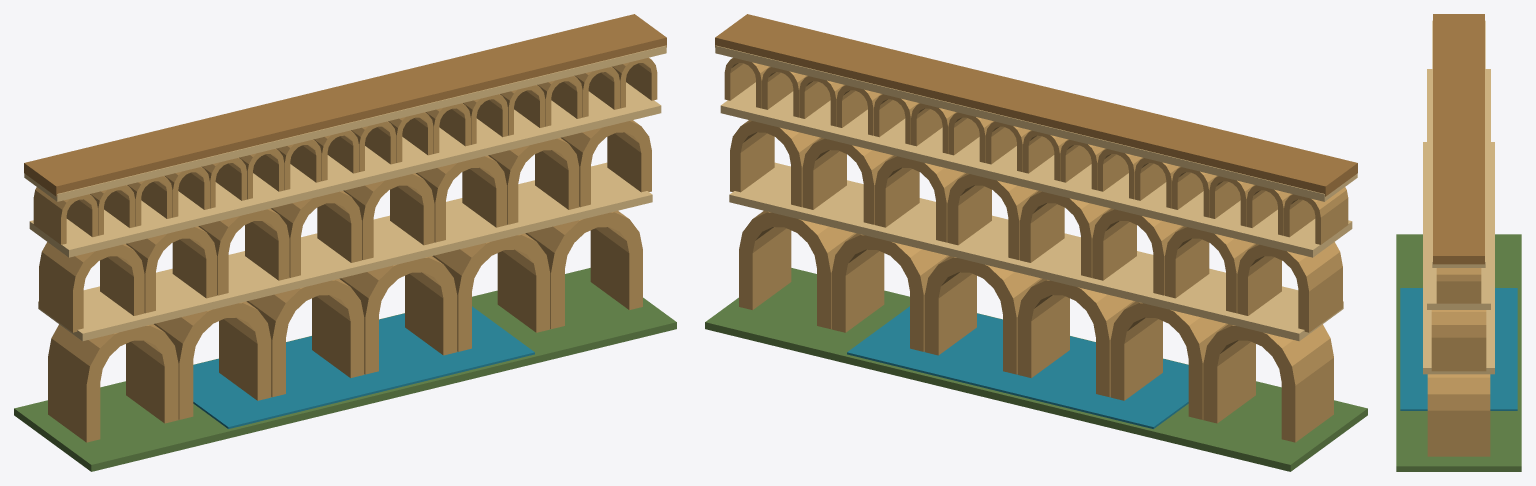
Rendered from pont-du-gard.glb.
The picture shows the model from 3 angles, left to right: view 1: azimuth 30°, elevation 25°; view 2: azimuth 150°, elevation 25°; view 3: azimuth 270°, elevation 25°; orthographic projection. The views are drawn at different scales.
Visible parts, largest first — view 1: body_CBB182, body_DBC396, roof_B5A078, base, river_598D97; view 2: body_CBB182, body_DBC396, roof_B5A078, base, river_598D97; view 3: roof_B5A078, body_CBB182, base, body_DBC396, river_598D97.
Boxes of the visible parts, box(x1,y1,x2,y2) form: body_CBB182: box(33, 57, 657, 442); body_DBC396: box(24, 45, 666, 341); roof_B5A078: box(24, 14, 666, 196); base: box(14, 268, 676, 471); river_598D97: box(193, 306, 534, 428); body_CBB182: box(724, 57, 1348, 442); body_DBC396: box(715, 45, 1357, 341); roof_B5A078: box(715, 14, 1357, 196); base: box(705, 268, 1367, 471); river_598D97: box(847, 306, 1188, 428); roof_B5A078: box(1433, 14, 1484, 264); body_CBB182: box(1427, 268, 1490, 456); base: box(1396, 234, 1521, 471); body_DBC396: box(1423, 20, 1494, 374); river_598D97: box(1400, 288, 1517, 410).
Bounding box in the file's own units: 1 × 0.4258 × 0.2192.
